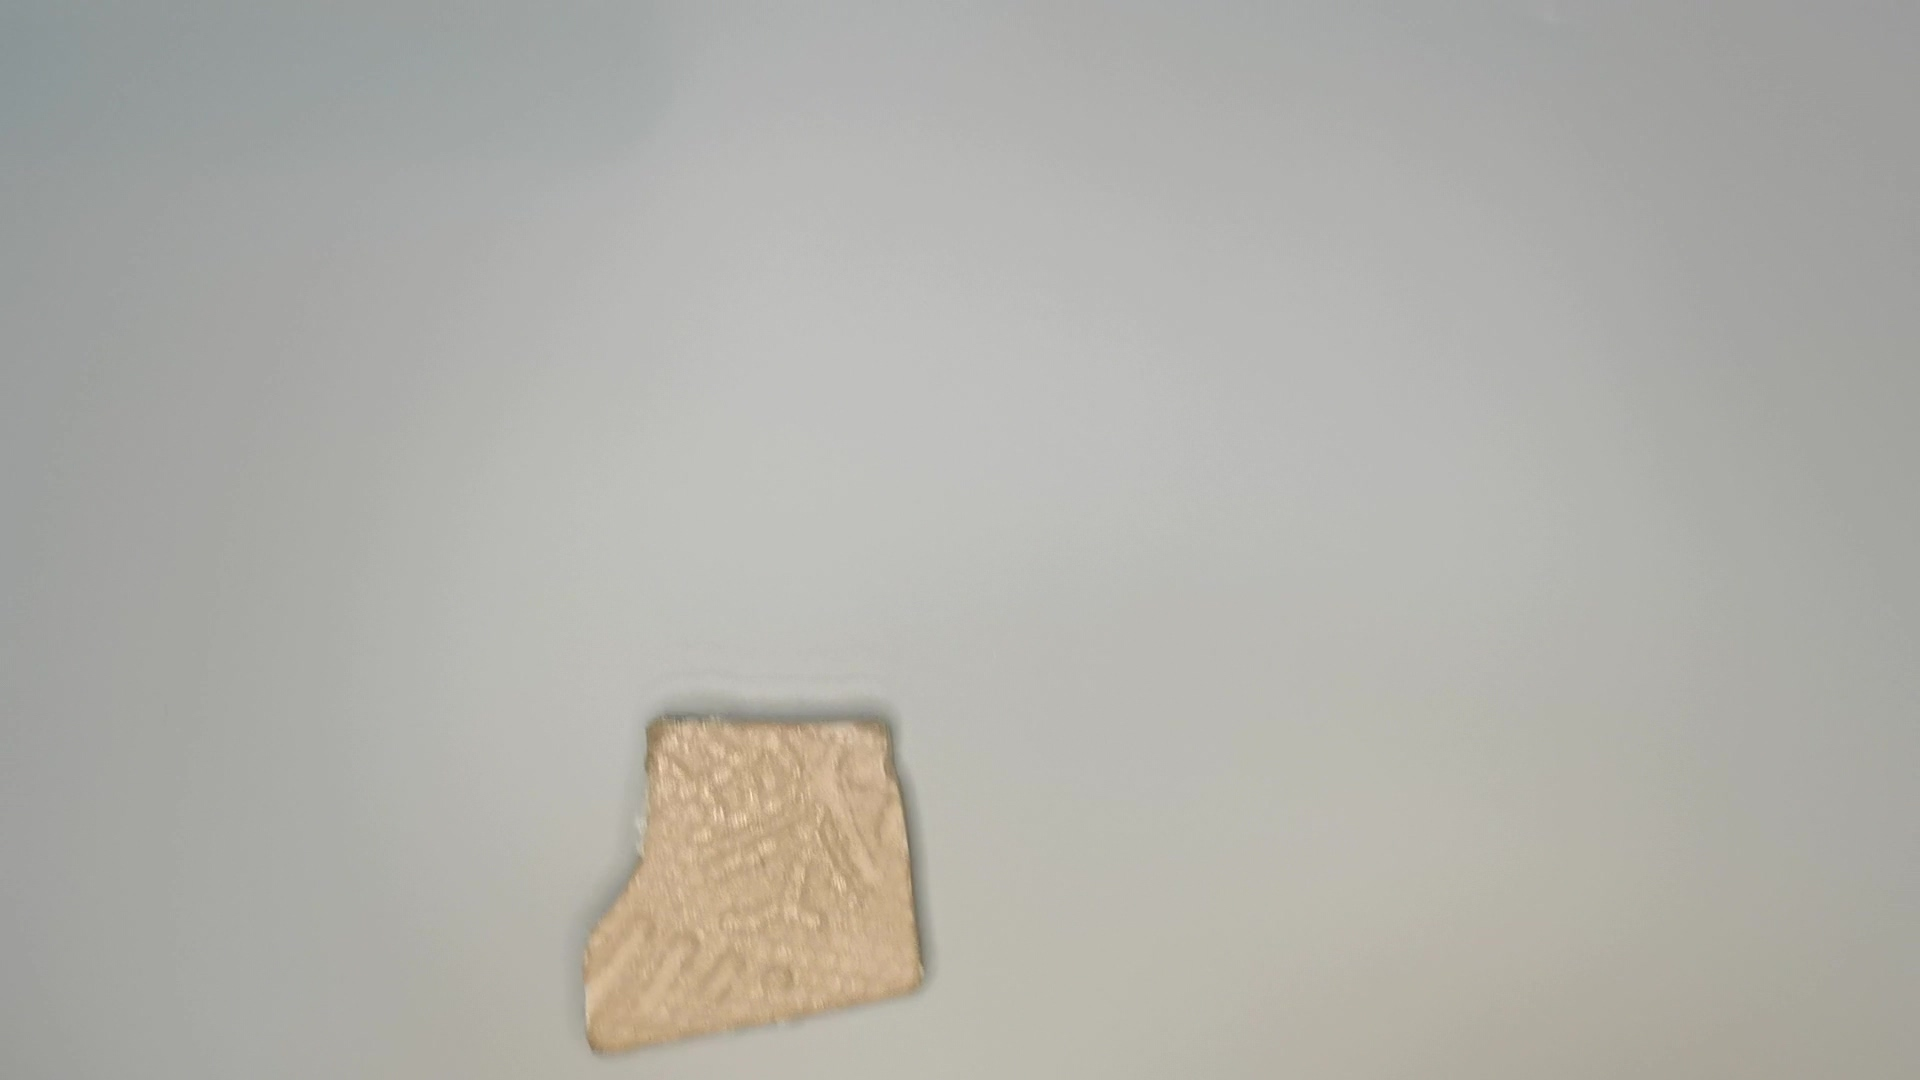ceramic: (559, 708, 944, 1052)
